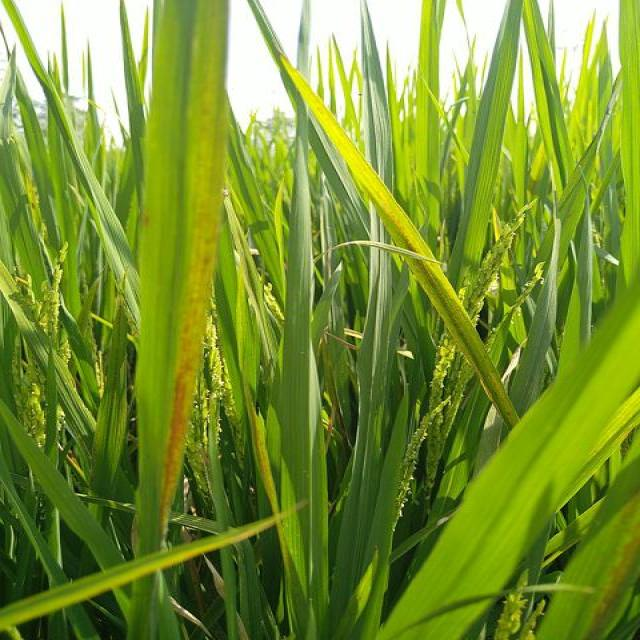Leaf Streak: (156, 0, 228, 544)
